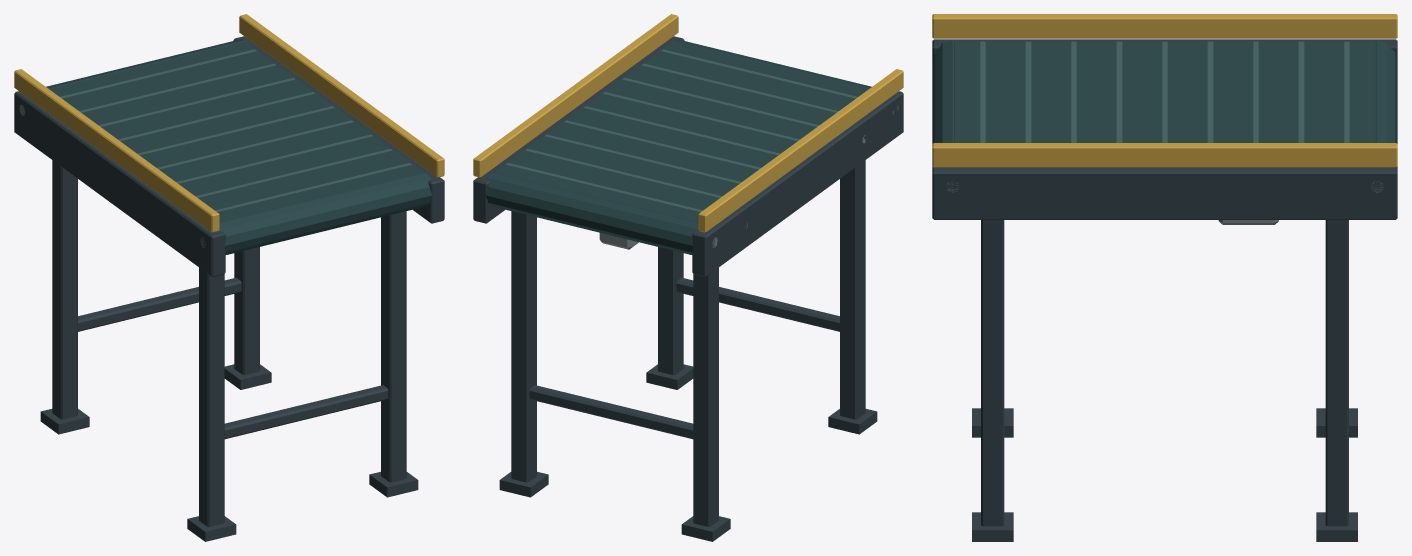
The model's file is conveyor-high.glb.
3 views of the same model, side by side, from view 1: azimuth 30°, elevation 25°; view 2: azimuth 150°, elevation 25°; view 3: azimuth 270°, elevation 25° (orthographic). The views are drawn at different scales.
Parts seen in each view (by area): view 1: conveyor-high__material_02, conveyor-high__material_00, conveyor-high__material_04, conveyor-high__material_01; view 2: conveyor-high__material_02, conveyor-high__material_00, conveyor-high__material_04, conveyor-high__material_01; view 3: conveyor-high__material_02, conveyor-high__material_00, conveyor-high__material_04, conveyor-high__material_01.
Boxes of the visible parts, box(x1,y1,x2,y2) form: conveyor-high__material_02: box(14, 36, 444, 541); conveyor-high__material_00: box(46, 39, 432, 254); conveyor-high__material_04: box(14, 14, 444, 232); conveyor-high__material_01: box(60, 49, 411, 211); conveyor-high__material_02: box(473, 36, 903, 541); conveyor-high__material_00: box(485, 39, 871, 254); conveyor-high__material_04: box(473, 14, 903, 232); conveyor-high__material_01: box(506, 49, 857, 211); conveyor-high__material_02: box(932, 39, 1397, 541); conveyor-high__material_00: box(932, 40, 1397, 143); conveyor-high__material_04: box(932, 14, 1397, 167); conveyor-high__material_01: box(980, 41, 1349, 142).
Bounding box in the file's own units: 0.68 × 0.95 × 1.
